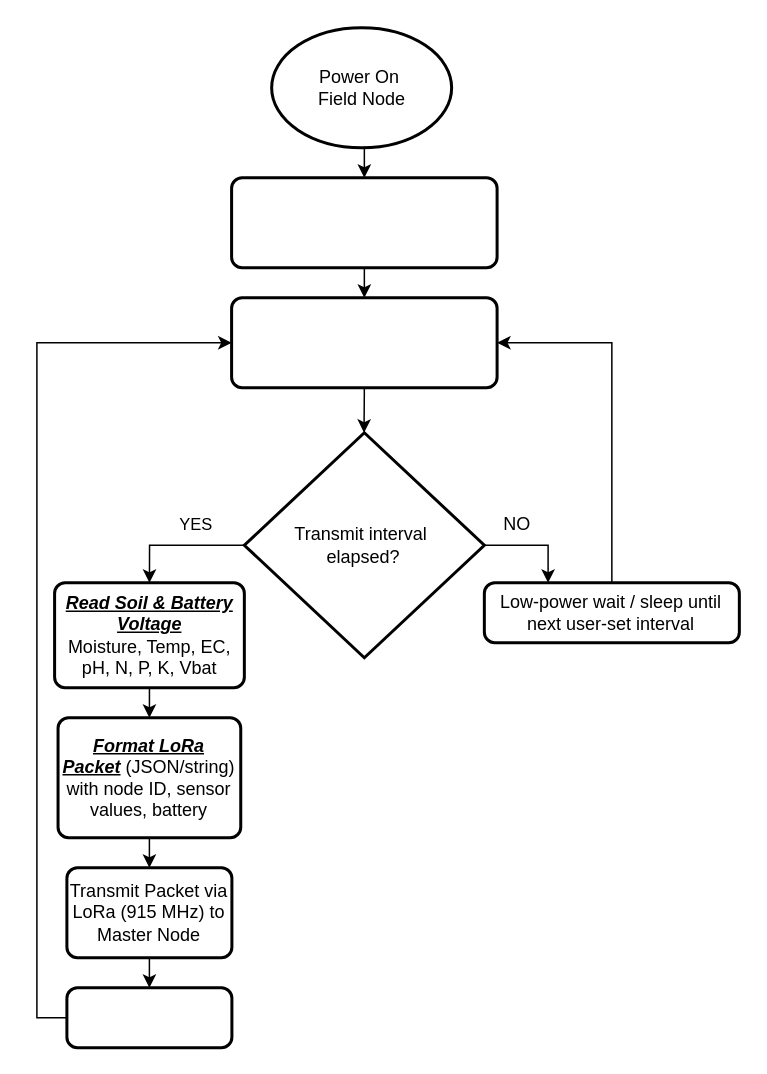
Some shapes in this 767 by 1074 pixel diagram are drawn without their labels. Here are the shapes that lost their labels. From the top down, the box of each, then its label:
(229, 176, 498, 268): Initialize Hardware Enable Vext, init OLED, RS-485 sensor, LoRa, timers
(229, 296, 498, 388): Check LoRa Config Packets (update transmit interval from master)
(65, 986, 233, 1048): Update OLED Pages
